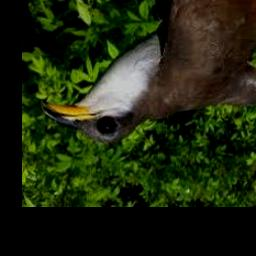Cuckoo: (42, 0, 256, 143)
